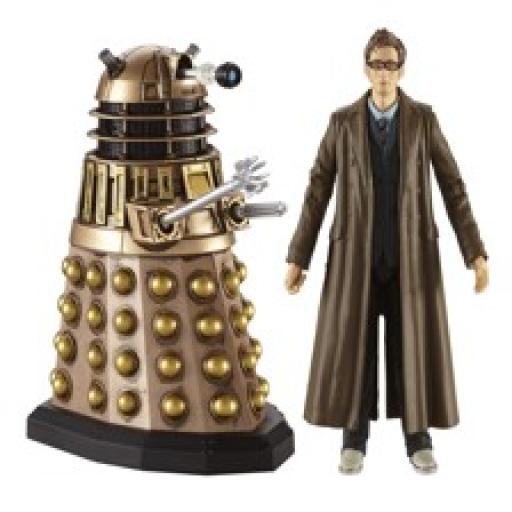dalek: (24, 41, 302, 475)
